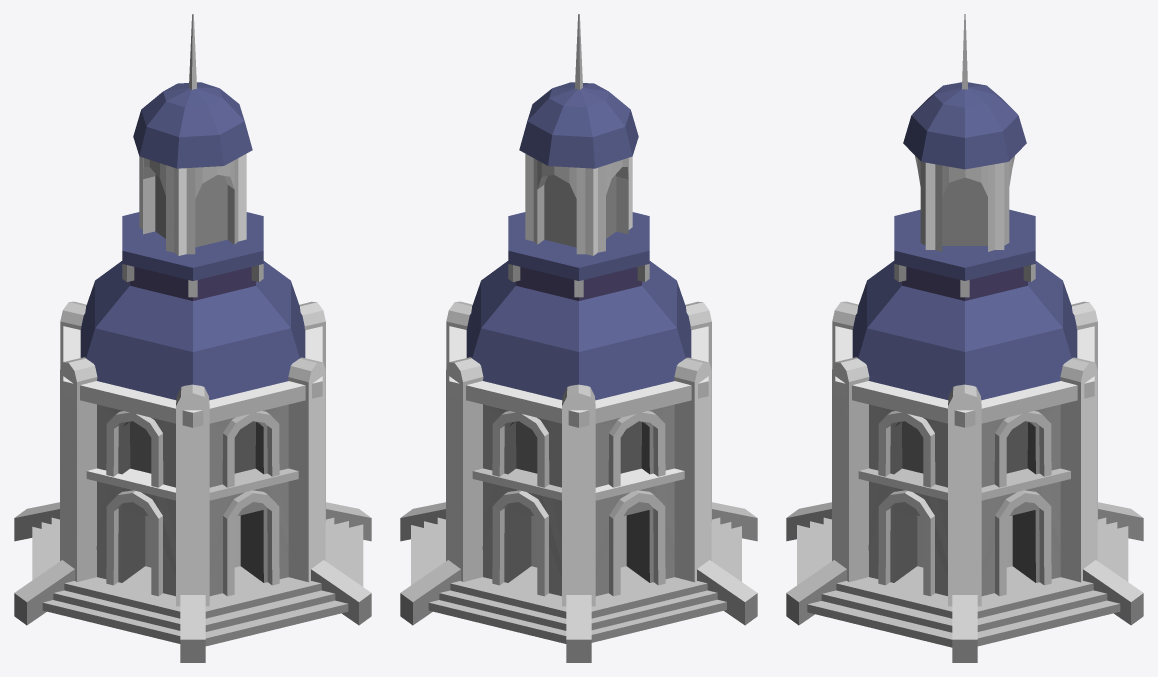
Rendered from temple_007.fbx.
3 renders of one model, left to right at view 1: azimuth 30°, elevation 25°; view 2: azimuth 150°, elevation 25°; view 3: azimuth 270°, elevation 25°, orthographic.
Parts seen in each view (by area): view 1: temple_007; view 2: temple_007; view 3: temple_007.
Part boxes in pixels (x1=…): temple_007: x1=14, y1=14, x2=371, y2=662; temple_007: x1=400, y1=14, x2=757, y2=662; temple_007: x1=786, y1=14, x2=1143, y2=662.
Size of the model in its own units: 1195 by 1870 by 1073.
